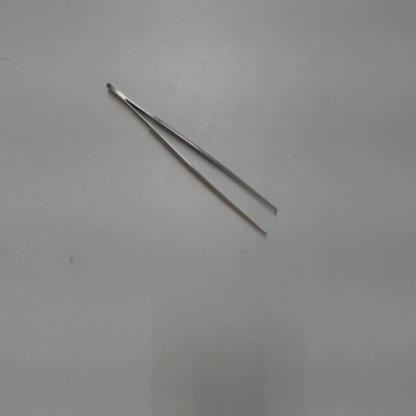Gillies Toothed Dissector: (100, 74, 286, 250)
